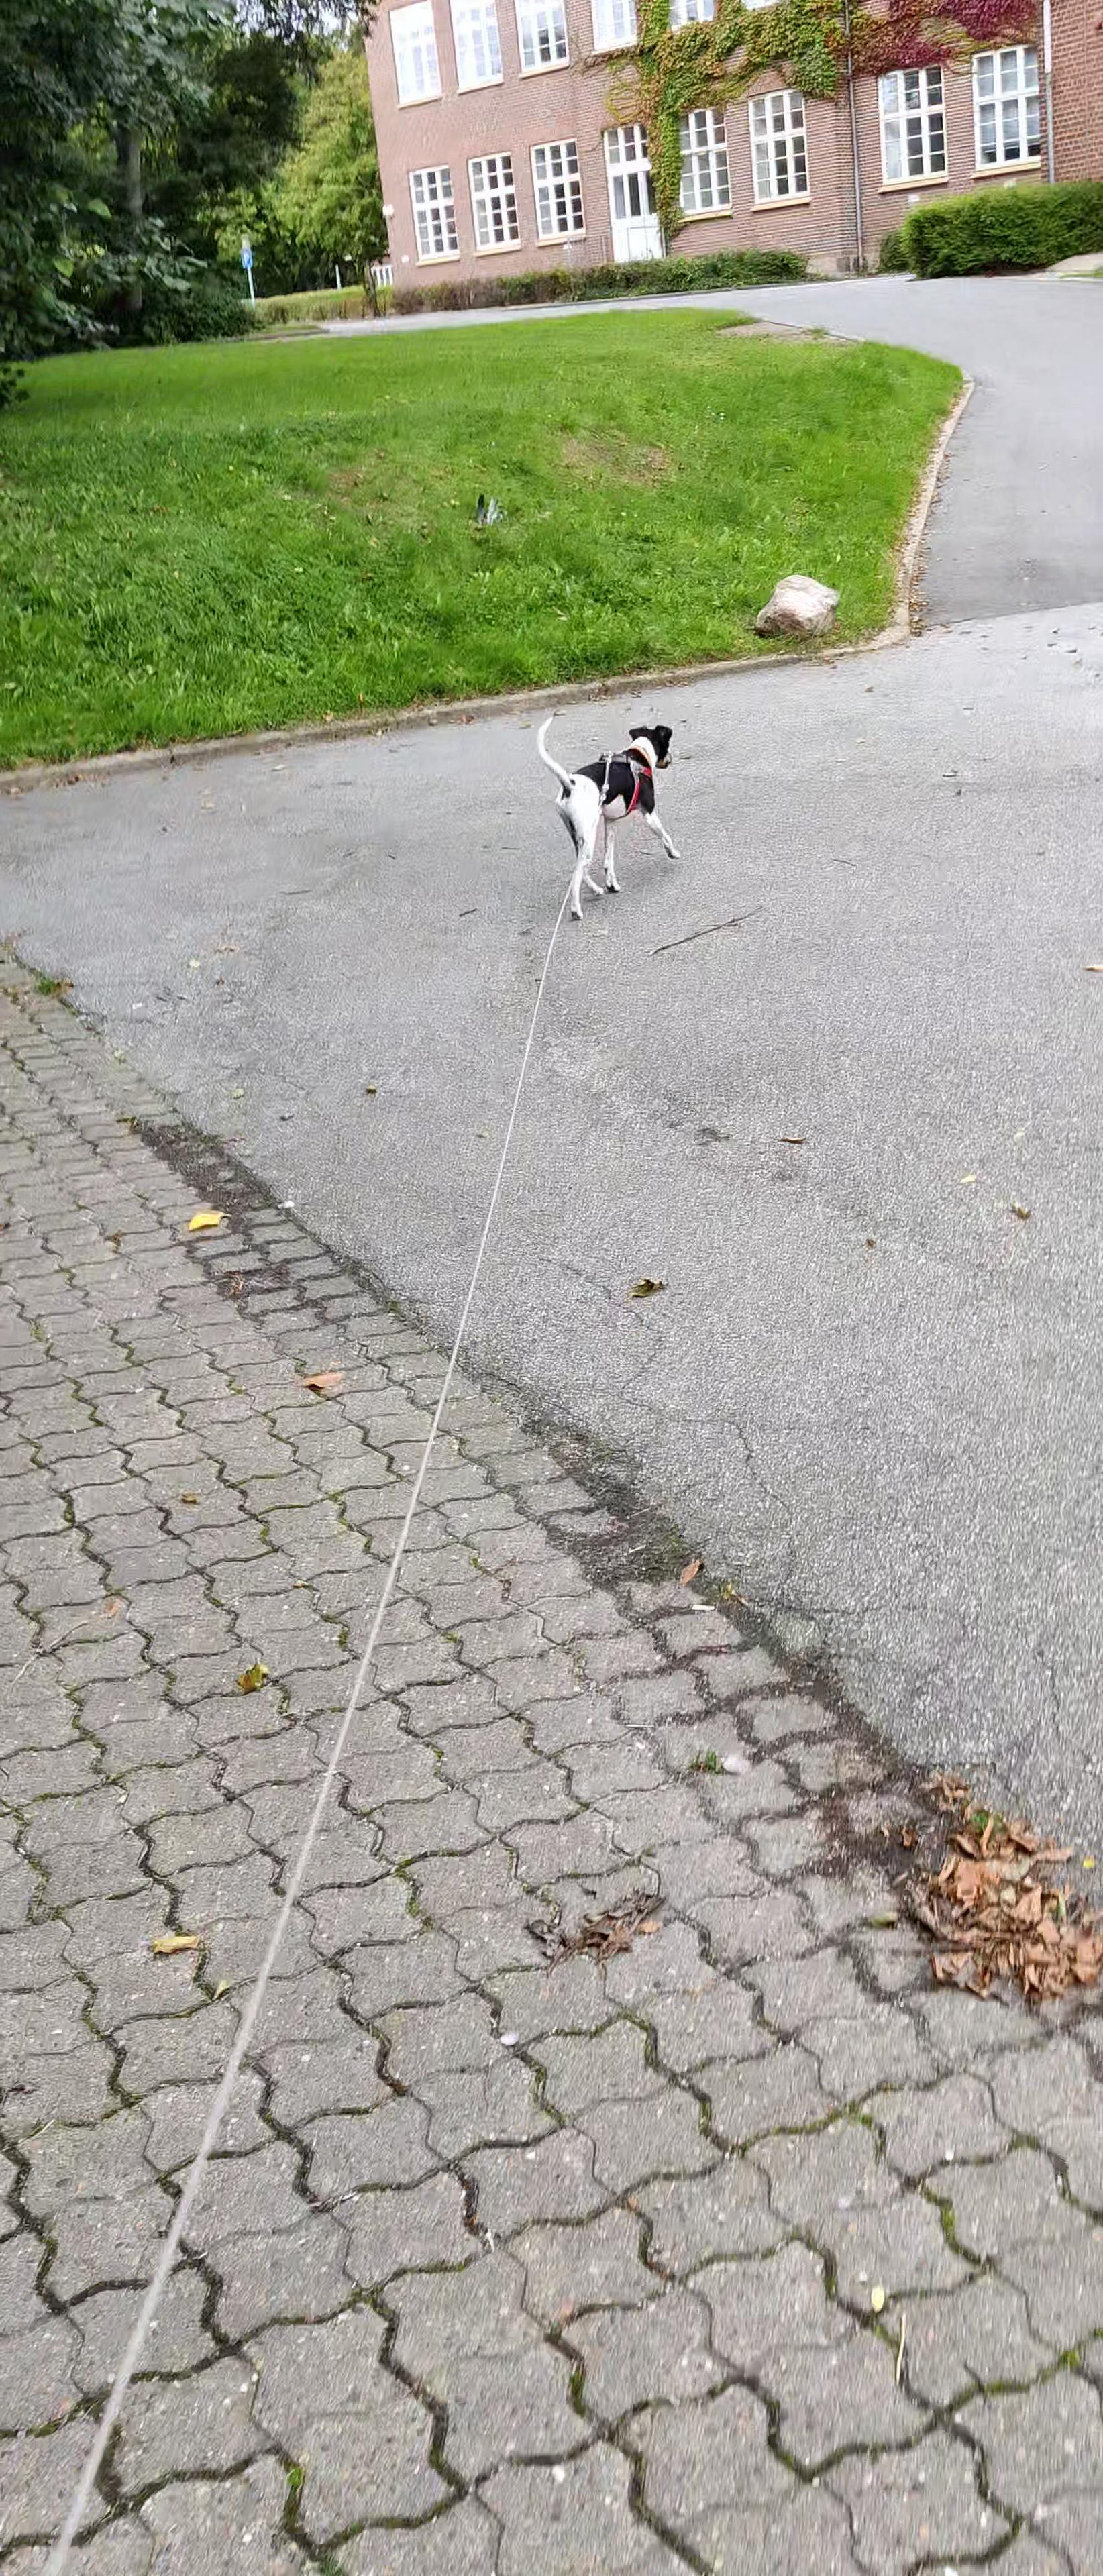Dog: (528, 701, 690, 927)
